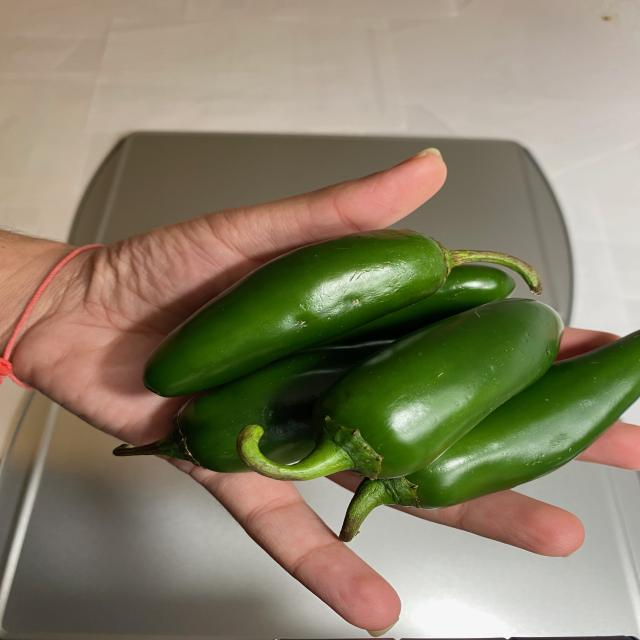chilli: (110, 220, 640, 537)
